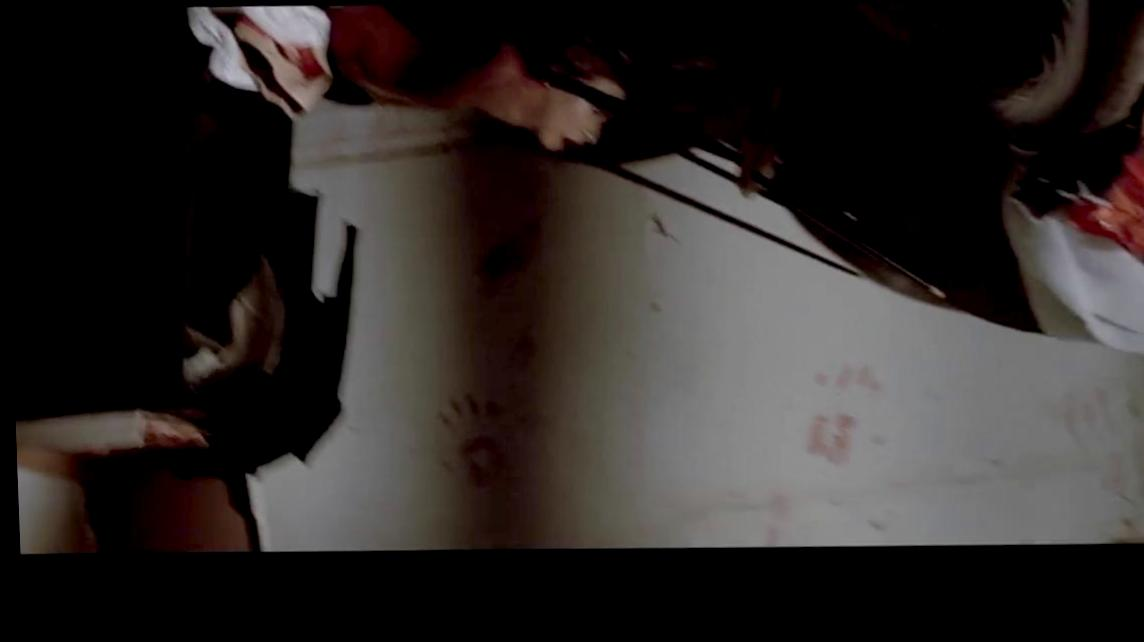Fire: (326, 8, 508, 114), (1067, 165, 1144, 268), (435, 397, 499, 495), (804, 422, 855, 475), (811, 373, 880, 405)
